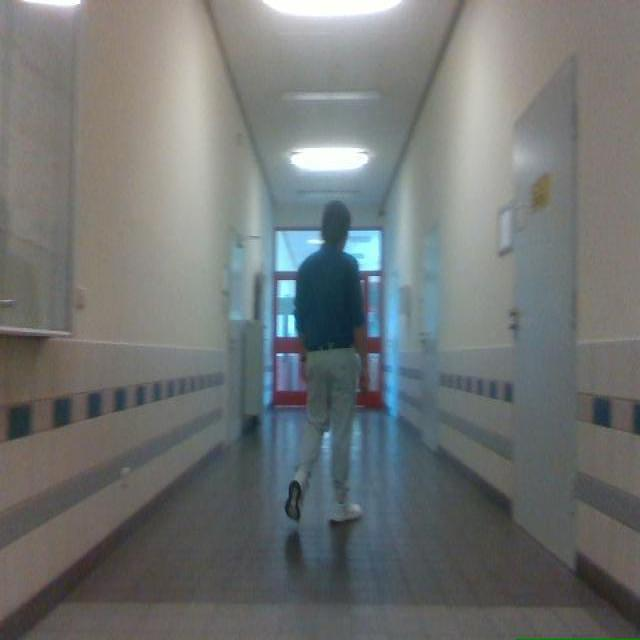humans: (285, 201, 368, 523)
